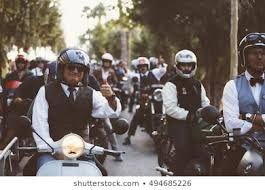helmet: (51, 46, 93, 98), (166, 47, 202, 84), (98, 52, 117, 74), (135, 56, 153, 76)
